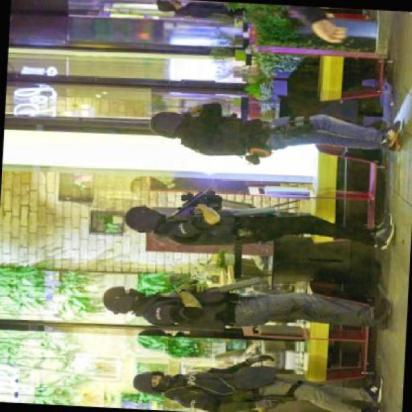Gun: (168, 182, 221, 223), (262, 388, 299, 408)
